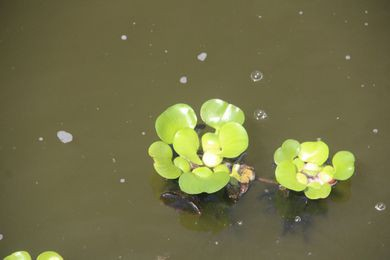water_hyacinth: (146, 97, 355, 216)
